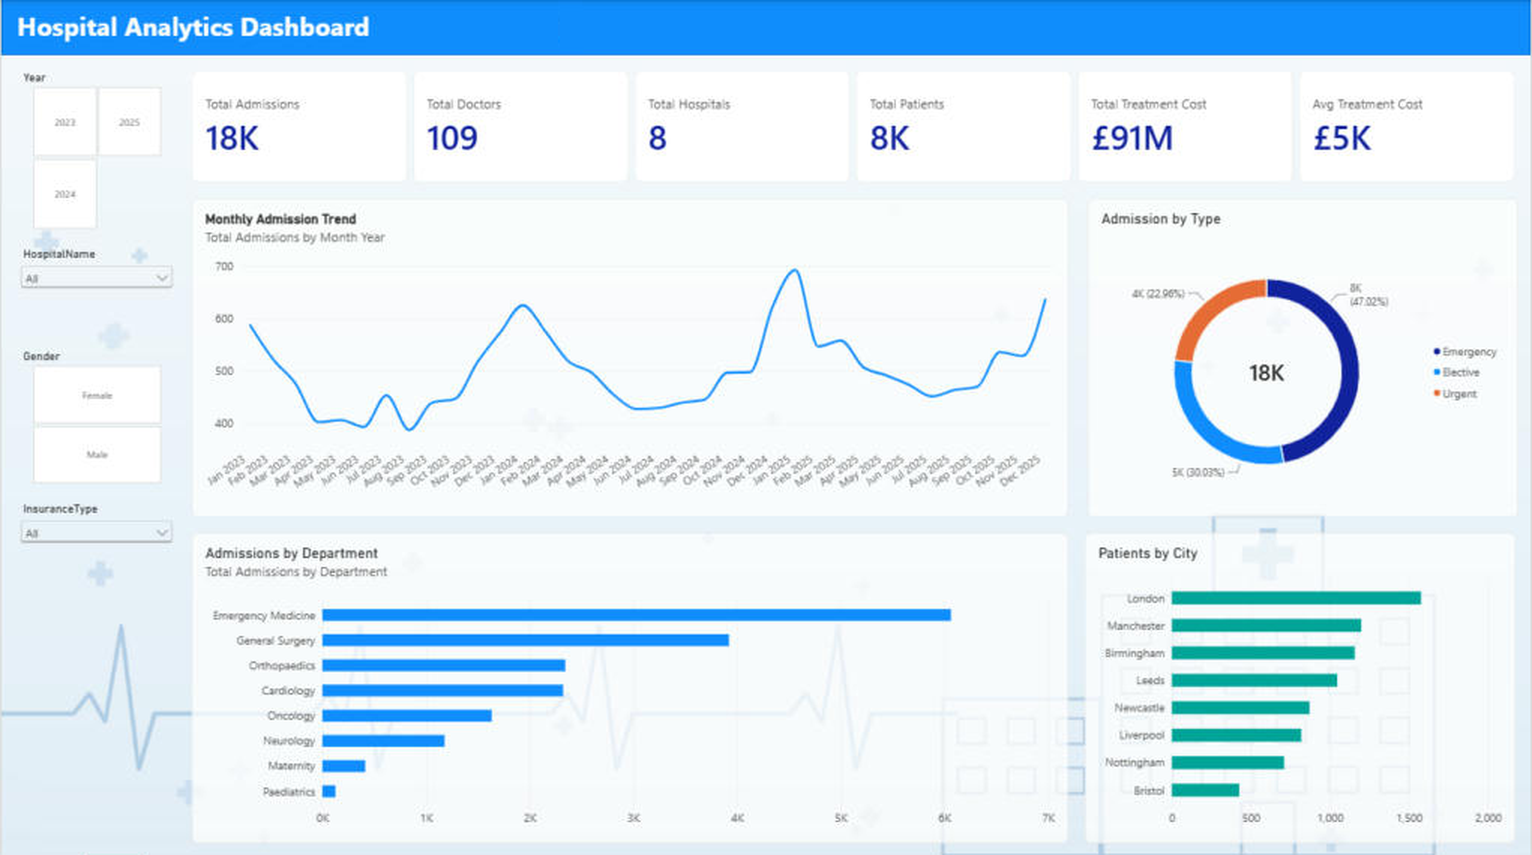

This screenshot's page, from the dashboard's own definition file:
{"tool":"powerbi","page":{"name":"Page 1","canvas":[1920,1080],"ordinal":0},"visuals":[{"type":"cardVisual","fields":{"Data":["_Measures.Total Admissions","_Measures.Total Doctors","_Measures.Total Hospitals","_Measures.Total Patients","_Measures.Total Treatment Cost","_Measures.Avg Treatment Cost"]},"box":[240,90,1660,140],"z":0},{"type":"shape","box":[0,0,1920,70],"z":1},{"type":"textbox","box":[20,15,700,40],"z":2},{"type":"lineChart","title":"Monthly Admission Trend","fields":{"Category":["DateTable.Month Year"],"Y":["_Measures.Total Admissions"]},"box":[240,250,1100,400],"z":3},{"type":"donutChart","title":"Admission by Type","fields":{"Category":["Admissions.AdmissionType"],"Y":["_Measures.Total Admissions"]},"box":[1363.5,250.6,540,400],"z":4},{"type":"clusteredBarChart","title":"Admissions by Department","fields":{"Category":["Departments.Department"],"Y":["_Measures.Total Admissions"]},"box":[240,670,1100,390],"z":5},{"type":"clusteredBarChart","title":"Patients by City","fields":{"Category":["Patients.City"],"Y":["_Measures.Total Patients"]},"box":[1360,670,540,390],"z":6},{"type":"slicer","fields":{"Values":["DateTable.Year"]},"box":[20,90,200,200],"z":7},{"type":"slicer","fields":{"Values":["Hospitals.HospitalName"]},"box":[20,310,200,110],"z":8},{"type":"slicer","fields":{"Values":["Patients.Gender"]},"box":[20,440,200,170],"z":9},{"type":"slicer","fields":{"Values":["Admissions.InsuranceType"]},"box":[20,630,200,110],"z":10}]}

Visuals, with their boxes in screenshot pixels (x1, y1, x2, y2), scaled from the page's 1920x1080 canvas onto the 1532x855 screenshot:
cardVisual - _Measures.Total Admissions x _Measures.Total Doctors: x1=192 y1=71 x2=1516 y2=182
shape: x1=0 y1=0 x2=1531 y2=55
textbox: x1=16 y1=12 x2=574 y2=44
"Monthly Admission Trend" lineChart: x1=192 y1=198 x2=1069 y2=515
"Admission by Type" donutChart: x1=1088 y1=198 x2=1519 y2=515
"Admissions by Department" clusteredBarChart: x1=192 y1=530 x2=1069 y2=839
"Patients by City" clusteredBarChart: x1=1085 y1=530 x2=1516 y2=839
slicer - DateTable.Year: x1=16 y1=71 x2=176 y2=230
slicer - Hospitals.HospitalName: x1=16 y1=245 x2=176 y2=332
slicer - Patients.Gender: x1=16 y1=348 x2=176 y2=483
slicer - Admissions.InsuranceType: x1=16 y1=499 x2=176 y2=586
